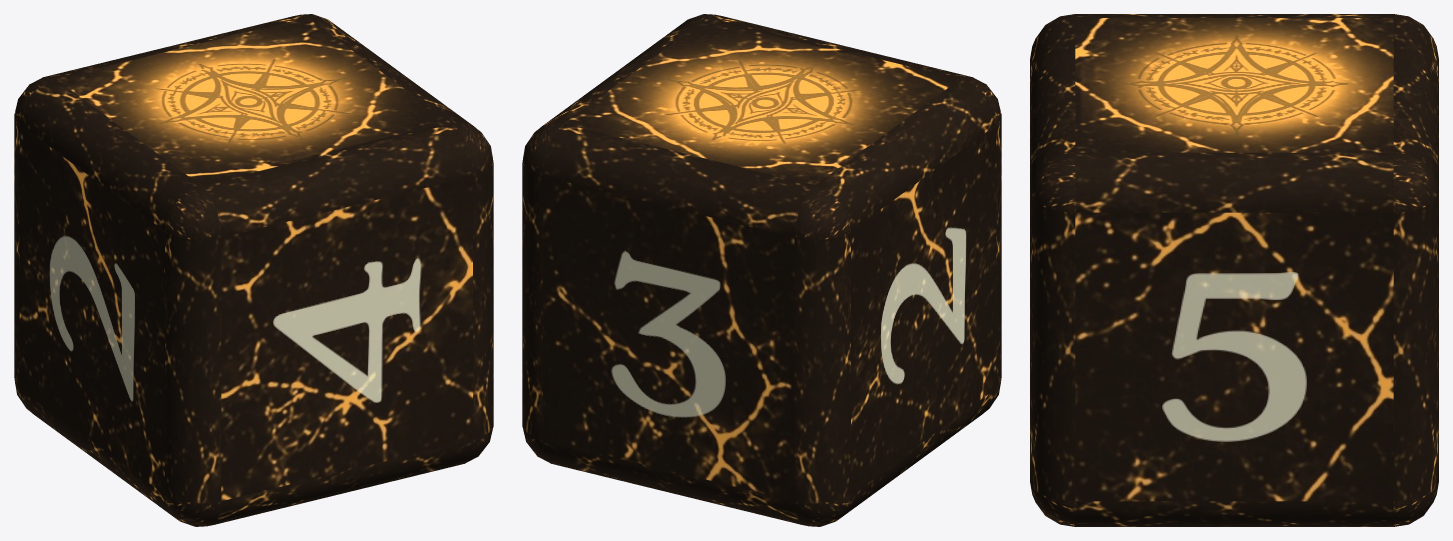
File: d6_path_matter.glb
The picture shows the model from 3 angles, left to right: view 1: azimuth 30°, elevation 25°; view 2: azimuth 150°, elevation 25°; view 3: azimuth 270°, elevation 25°; orthographic projection. The views are drawn at different scales.
Visible parts, largest first — view 1: d6; view 2: d6; view 3: d6.
Part boxes in pixels (left/top/right/bottom): d6: left=14, top=14, right=493, bottom=526; d6: left=522, top=14, right=1001, bottom=526; d6: left=1030, top=14, right=1438, bottom=526.
Size of the model in its own units: 104 by 104 by 104.
1 material, 1 textured.
